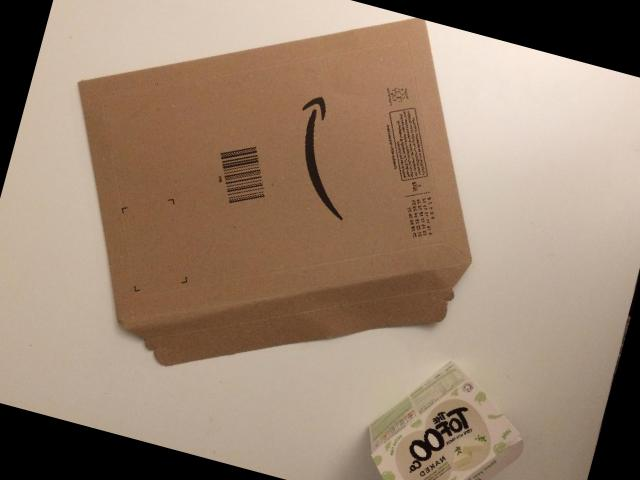cardboard paper: (0, 341, 41, 383)
